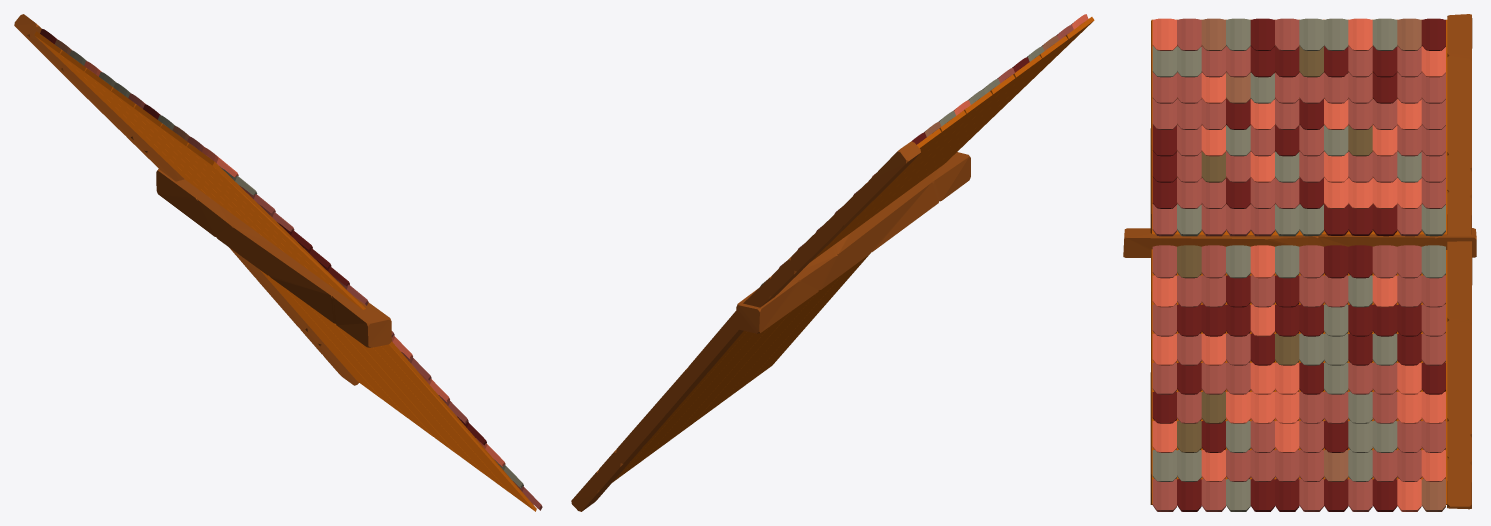
The model's file is DoubleHeightRoofOnePillar.fbx.
3 views of the same model, side by side, from view 1: azimuth 30°, elevation 25°; view 2: azimuth 150°, elevation 25°; view 3: azimuth 270°, elevation 25° (orthographic). The views are drawn at different scales.
Visible parts, largest first — view 1: DoubleHeightRoofOnePillar_LOD0; view 2: DoubleHeightRoofOnePillar_LOD0; view 3: DoubleHeightRoofOnePillar_LOD0.
Part boxes in pixels (bbox=[...]): DoubleHeightRoofOnePillar_LOD0: bbox=[14, 14, 542, 511]; DoubleHeightRoofOnePillar_LOD0: bbox=[571, 14, 1094, 511]; DoubleHeightRoofOnePillar_LOD0: bbox=[1123, 14, 1476, 511].
Size of what is drawn, in the model's own units: 2001 by 2472 by 2162.
